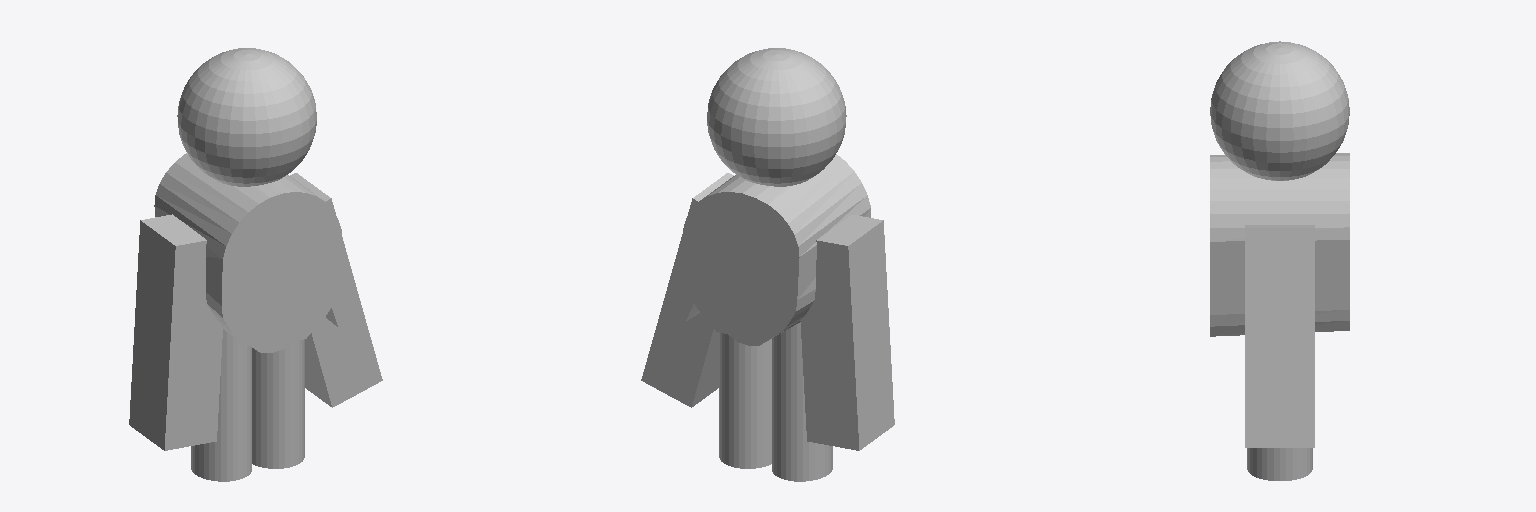
Rendered from Figurine60.obj.
The picture shows the model from 3 angles: view 1: azimuth 30°, elevation 25°; view 2: azimuth 150°, elevation 25°; view 3: azimuth 270°, elevation 25°; orthographic projection.
Parts seen in each view (by area): view 1: Cylinder; view 2: Cylinder; view 3: Cylinder.
Part boxes in pixels (x1,y1,x2,y2): Cylinder: (129,48,382,481); Cylinder: (641,48,894,481); Cylinder: (1210,41,1349,480).
Size of the model in its own units: 3.6 by 6.42 by 2.